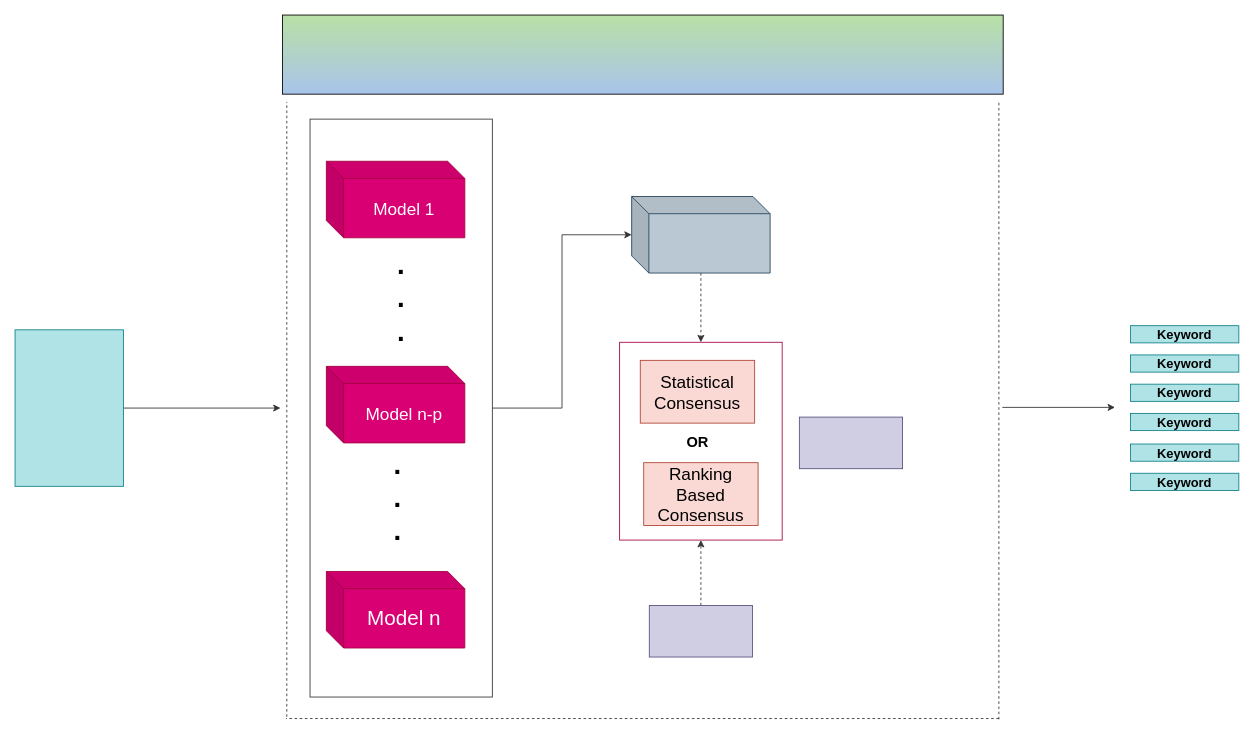
The diagram is 1254 pixels wide and 735 high, and some of its shapes have lost their labels. The centre of each missing label's shape, as x and y in pixels:
"Consensus Algorithm" belongs at point (851, 442).
"Guided Consensus" belongs at point (700, 234).
"keyBoost" belongs at point (642, 54).
"Section" belongs at point (68, 407).
"User Feedback (guidance)" belongs at point (700, 631).
